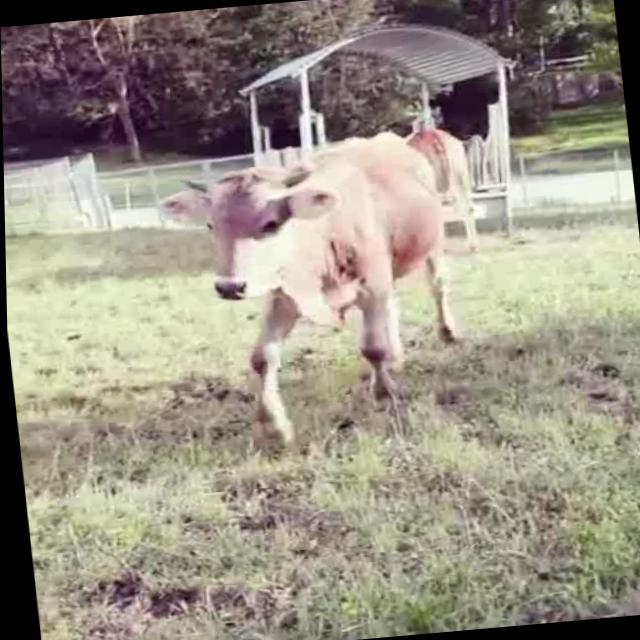cowFace: (142, 152, 350, 314)
